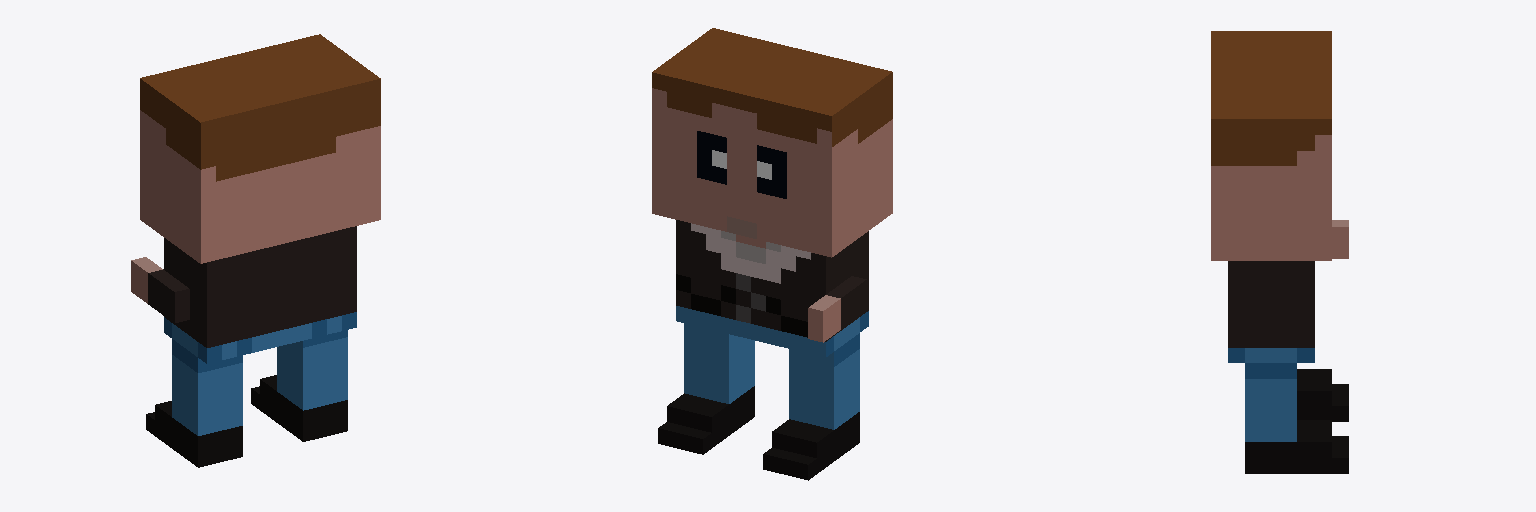
The picture shows the model from 3 angles: view 1: azimuth 30°, elevation 25°; view 2: azimuth 150°, elevation 25°; view 3: azimuth 270°, elevation 25°; orthographic projection.
Visible parts, largest first — view 1: cube; view 2: cube; view 3: cube.
Part boxes in pixels (left/top/right/bottom): cube: left=131, top=34, right=380, bottom=467; cube: left=652, top=28, right=892, bottom=480; cube: left=1211, top=31, right=1348, bottom=473.
Bounding box in the file's own units: 12 × 23 × 8.
Materials: 1 (1 with a texture image).